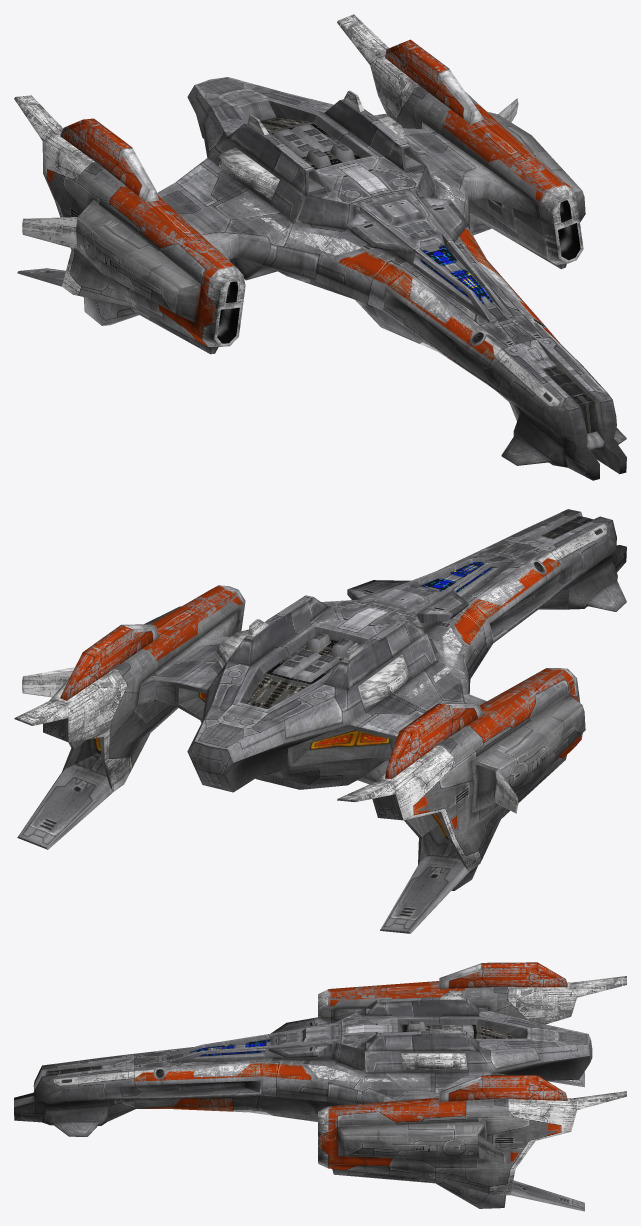
Rendered from scifi_fighter_mk.obj.
3 views of the same model, one above another, from view 1: azimuth 30°, elevation 25°; view 2: azimuth 150°, elevation 25°; view 3: azimuth 270°, elevation 25° (orthographic). The views are drawn at different scales.
Visible parts, largest first — view 1: SciFi_Fighter_MK; view 2: SciFi_Fighter_MK; view 3: SciFi_Fighter_MK.
Part boxes in pixels (left/top/right/bottom): SciFi_Fighter_MK: left=14, top=14, right=626, bottom=480; SciFi_Fighter_MK: left=14, top=509, right=626, bottom=933; SciFi_Fighter_MK: left=14, top=962, right=626, bottom=1211.
Size of the model in its own units: 16.85 by 6.19 by 25.01.
